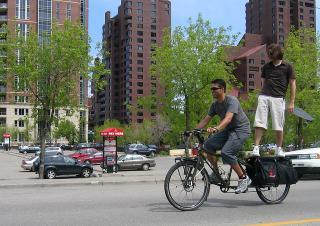person - v3 P: (195, 79, 250, 193), (252, 44, 295, 157)
